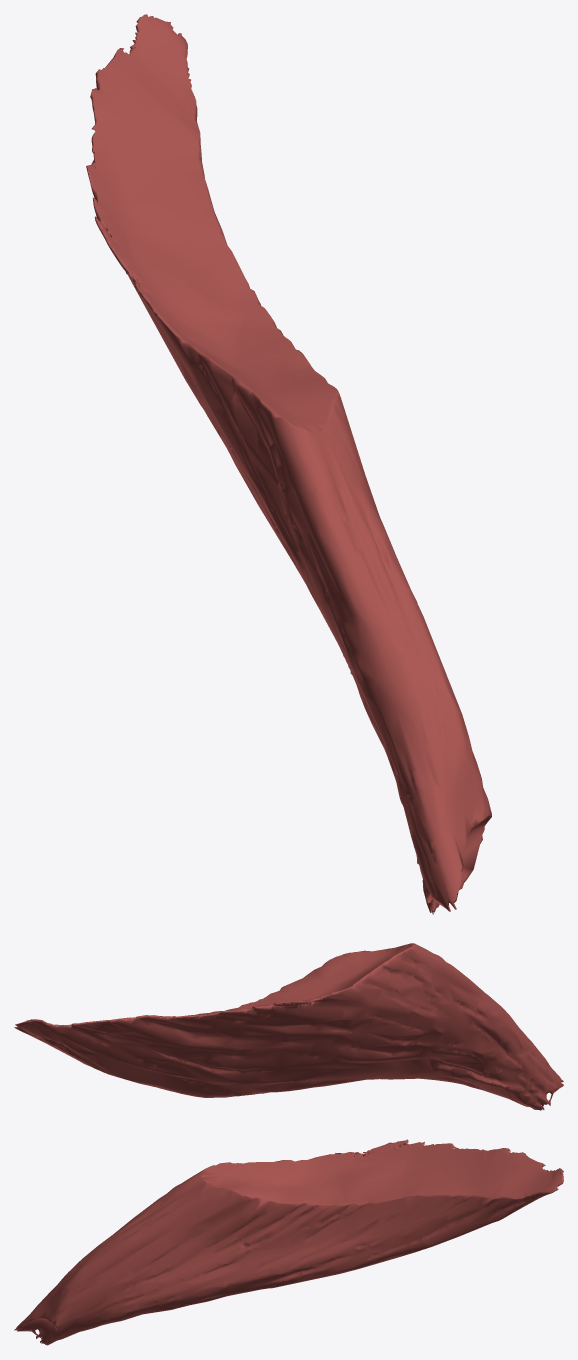
File: FMA32534.glb
The picture shows the model from 3 angles, top to bottom: view 1: azimuth 30°, elevation 25°; view 2: azimuth 150°, elevation 25°; view 3: azimuth 270°, elevation 25°; orthographic projection. The views are drawn at different scales.
Parts seen in each view (by area): view 1: FMA32534; view 2: FMA32534; view 3: FMA32534.
Part boxes in pixels (x1=…): FMA32534: x1=86, y1=14, x2=491, y2=914; FMA32534: x1=14, y1=943, x2=563, y2=1110; FMA32534: x1=14, y1=1139, x2=563, y2=1345.
Bounding box in the file's own units: 0.0139 × 0.0223 × 0.0483.
